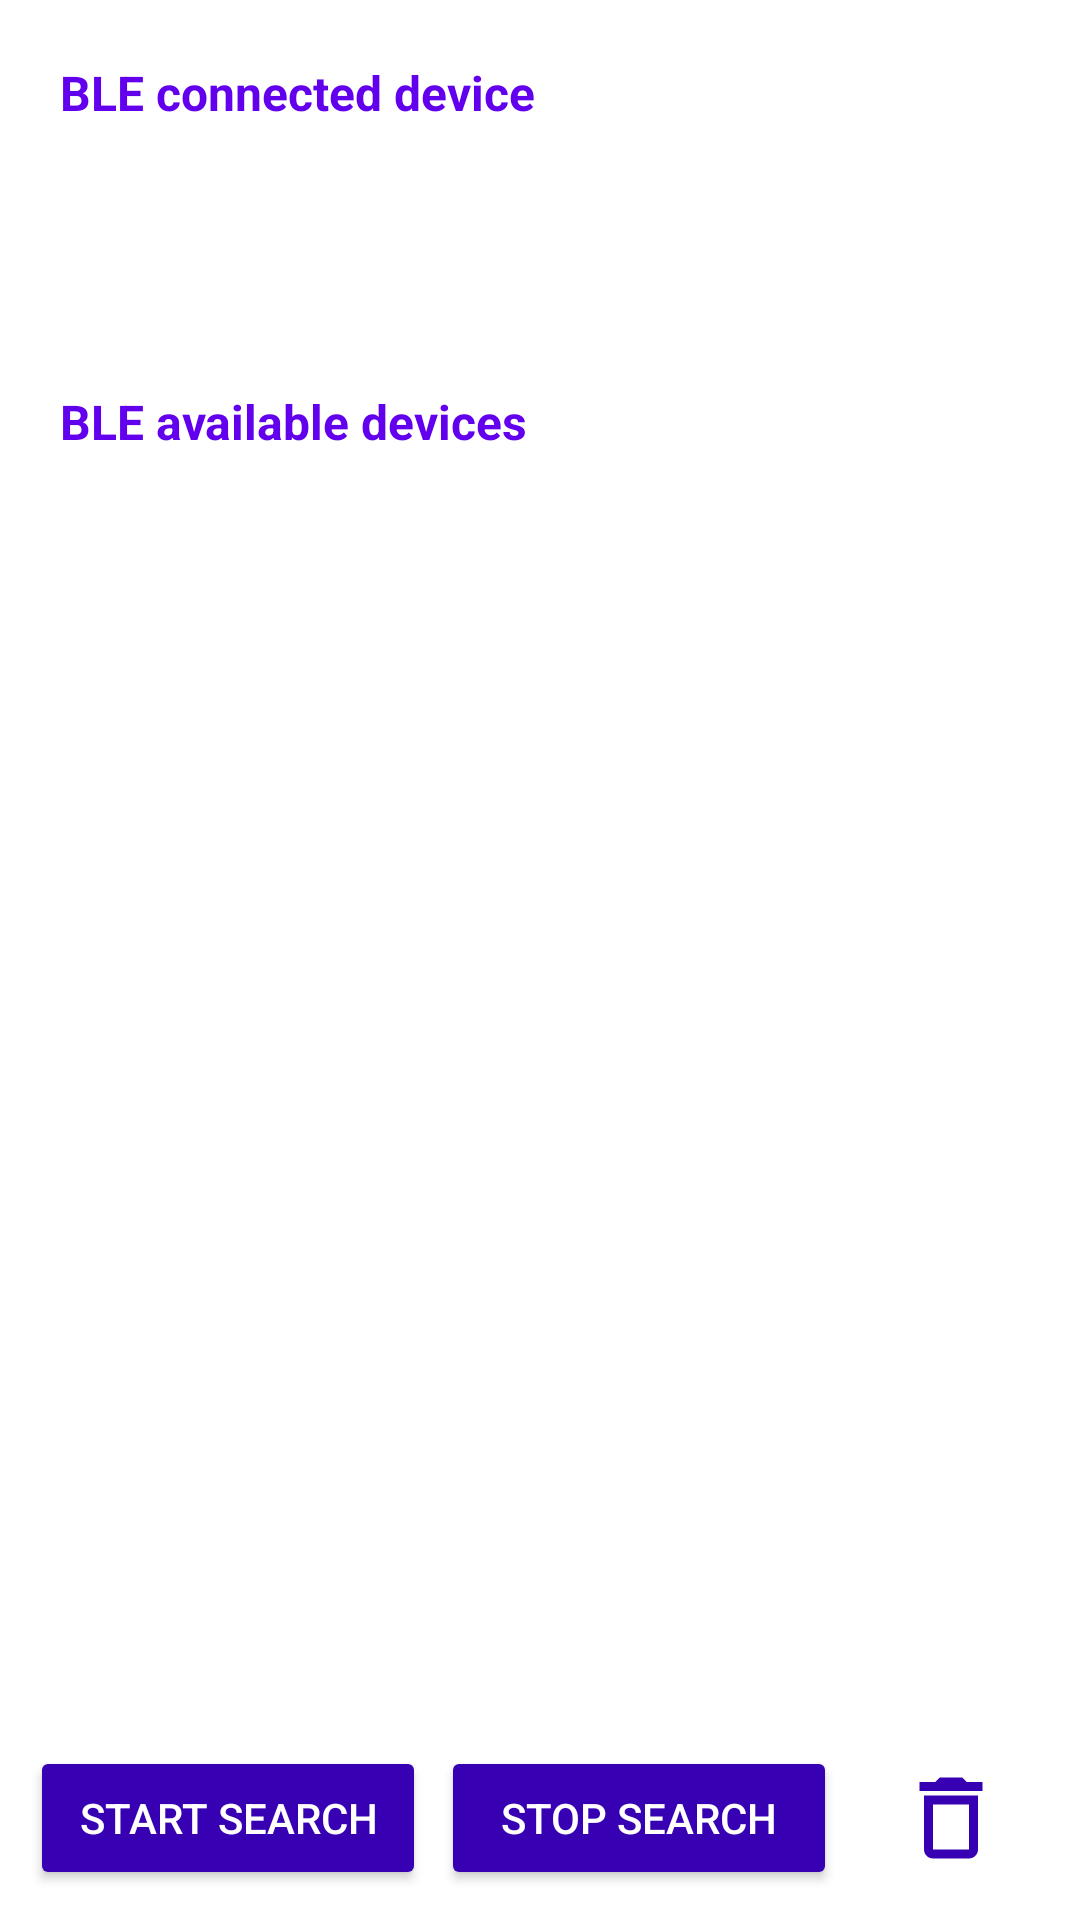

Icons on this 1080x1920 Android screen, each with the point to tap as [x,y]:
delete: [951,1818]
